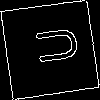U: (25, 24, 80, 68)
